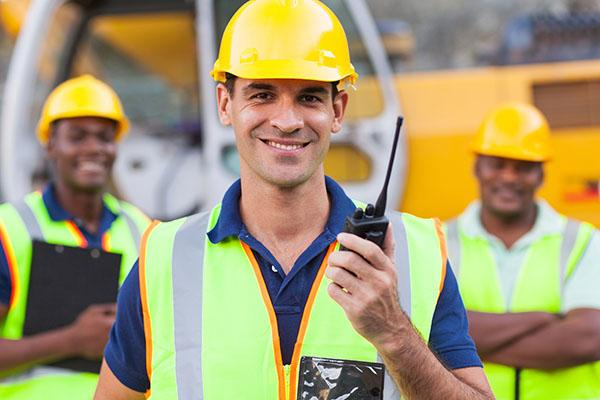helmet: (214, 1, 357, 86), (36, 76, 129, 141), (468, 100, 553, 161)
